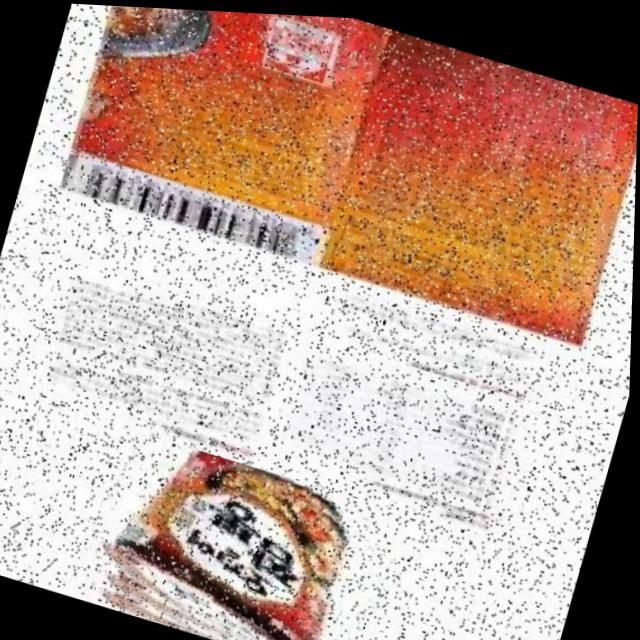Miscellaneous: (75, 423, 407, 640)
